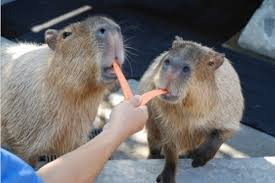capivara: (1, 15, 124, 170), (139, 36, 246, 183)
